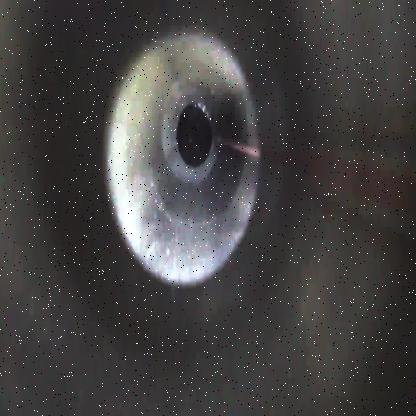NoCrack: (105, 27, 261, 289)
